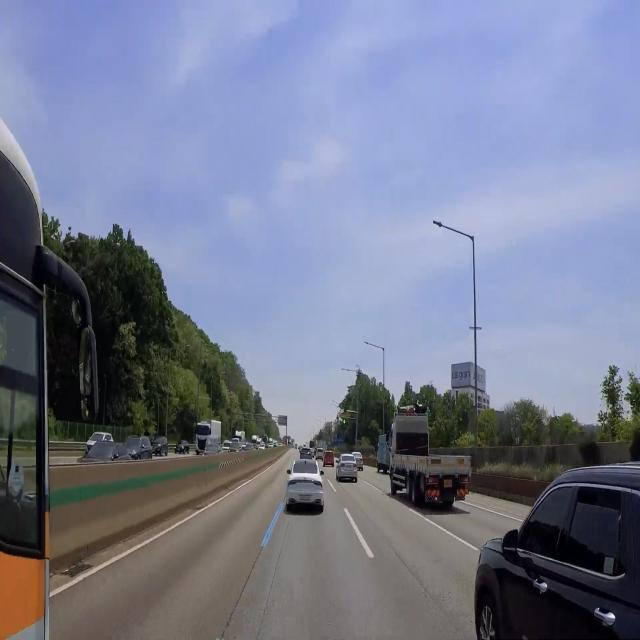car: (441, 476, 456, 492), (297, 494, 312, 505)
